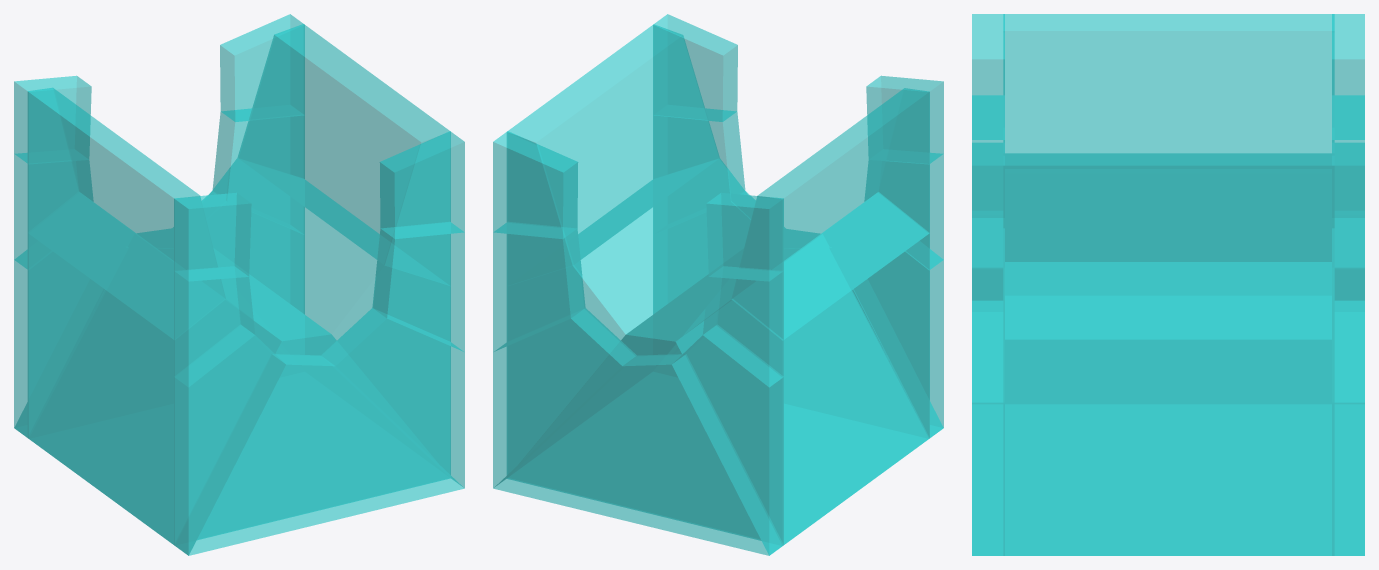
The model's file is SM_Bld_Wall_L_Damaged_01_Collision_01.fbx.
The picture shows the model from 3 angles, left to right: view 1: azimuth 30°, elevation 25°; view 2: azimuth 150°, elevation 25°; view 3: azimuth 270°, elevation 25°; orthographic projection. The views are drawn at different scales.
Visible parts, largest first — view 1: SM_Bld_Wall_L_Damaged_01_Collision_01; view 2: SM_Bld_Wall_L_Damaged_01_Collision_01; view 3: SM_Bld_Wall_L_Damaged_01_Collision_01.
Boxes of the visible parts, box(x1,y1,x2,y2) form: SM_Bld_Wall_L_Damaged_01_Collision_01: box(14, 14, 464, 555); SM_Bld_Wall_L_Damaged_01_Collision_01: box(493, 14, 943, 555); SM_Bld_Wall_L_Damaged_01_Collision_01: box(972, 14, 1364, 555).
Bounding box in the file's own units: 500 × 600 × 547.
